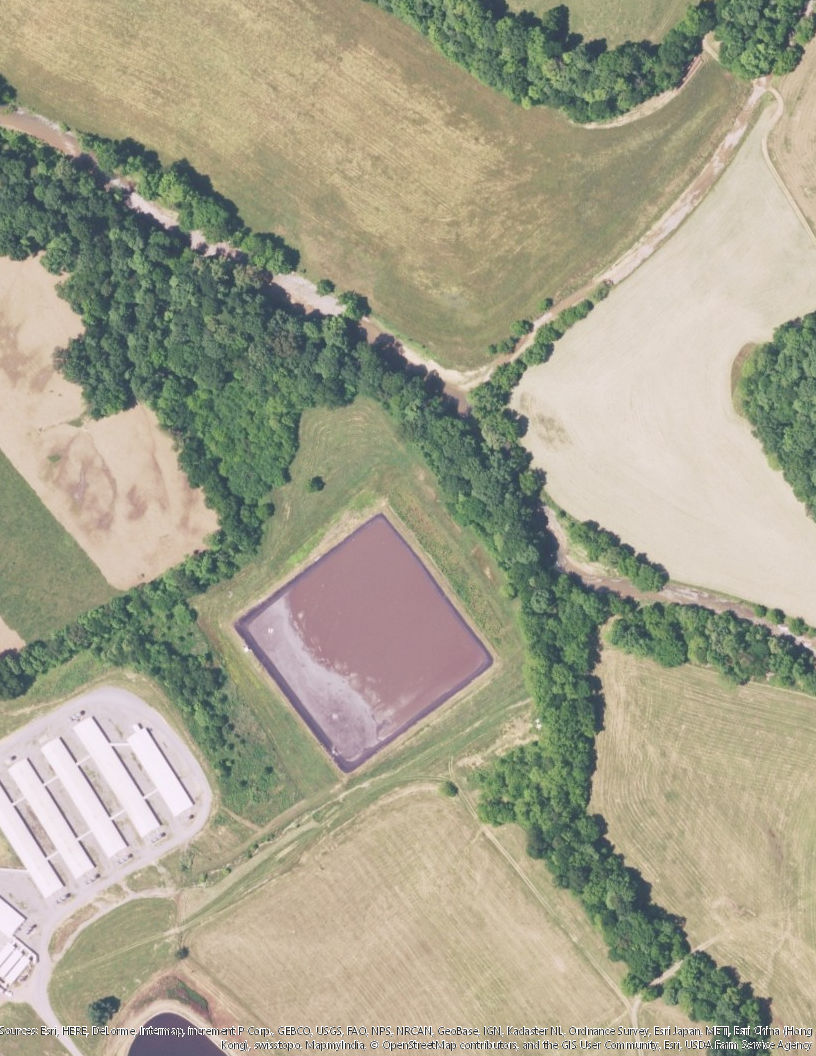cafo: (70, 713, 165, 840), (6, 755, 95, 882), (42, 735, 129, 860), (1, 781, 64, 902), (128, 722, 193, 820), (1, 894, 29, 941)
